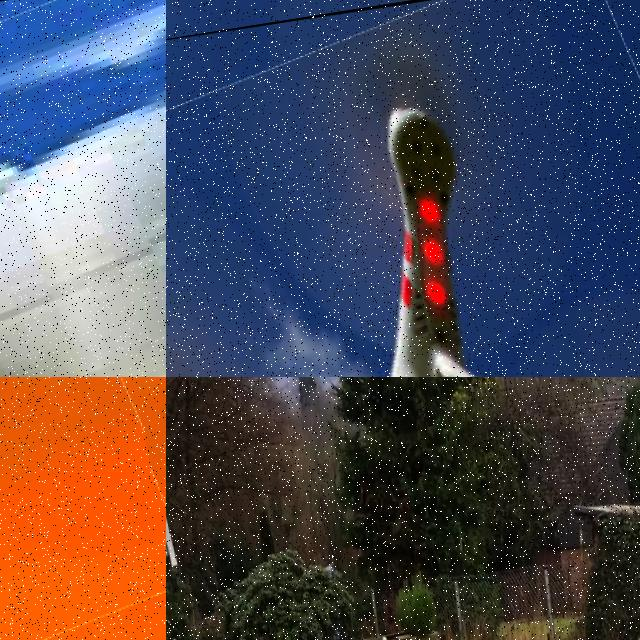drone: (166, 0, 640, 377), (0, 0, 166, 377), (0, 377, 166, 640)
